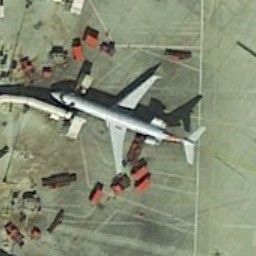Airplane: (35, 67, 213, 179)
